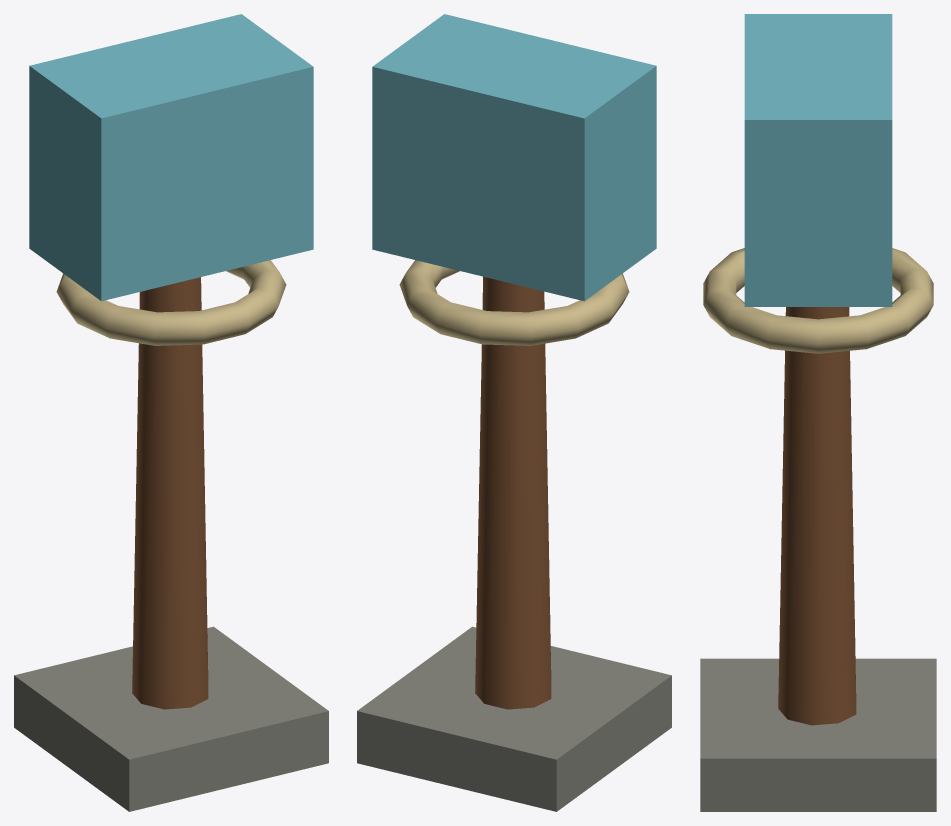
Rendered from study_lamp.glb.
3 renders of one model, left to right at view 1: azimuth 30°, elevation 25°; view 2: azimuth 150°, elevation 25°; view 3: azimuth 270°, elevation 25°, orthographic. The views are drawn at different scales.
Parts seen in each view (by area): view 1: head, base, post, detail_ring; view 2: head, base, post, detail_ring; view 3: head, base, post, detail_ring.
Part boxes in pixels (<box>): head: <box>29,14,313,301</box>; base: <box>14,626,328,811</box>; post: <box>132,277,208,709</box>; detail_ring: <box>56,260,286,345</box>; head: <box>372,14,656,301</box>; base: <box>357,626,671,811</box>; post: <box>475,276,551,709</box>; detail_ring: <box>399,260,629,345</box>; head: <box>744,14,892,306</box>; base: <box>700,658,936,811</box>; post: <box>778,307,856,725</box>; detail_ring: <box>703,248,933,353</box>.
Size of what is drawn, in the model's own units: 0.85 by 2.6 by 0.8.
